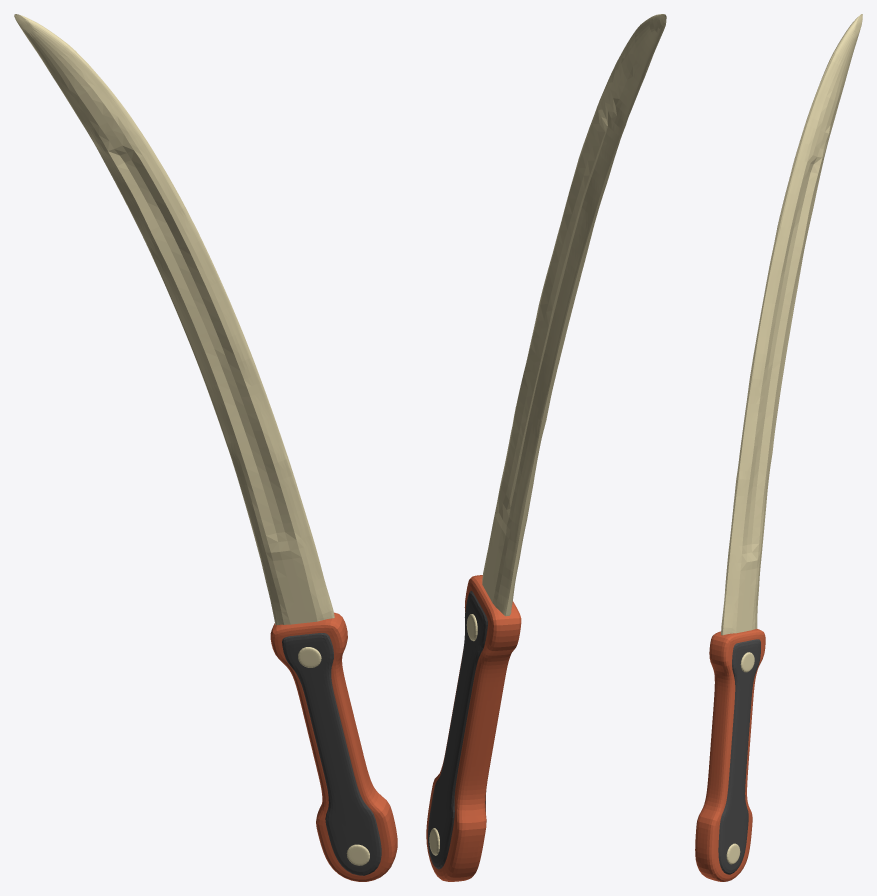
The model's file is COSSACK_WEAPON_8#6.glb.
The picture shows the model from 3 angles, left to right: view 1: azimuth 30°, elevation 25°; view 2: azimuth 150°, elevation 25°; view 3: azimuth 270°, elevation 25°; orthographic projection. The views are drawn at different scales.
Parts seen in each view (by area): view 1: LongKindjal4; view 2: LongKindjal4; view 3: LongKindjal4.
Part boxes in pixels (x1,y1,x2,y2): LongKindjal4: (14,14,397,881); LongKindjal4: (426,14,666,881); LongKindjal4: (695,14,862,881).
Size of the model in its own units: 1.32 by 3.72 by 0.7507.
